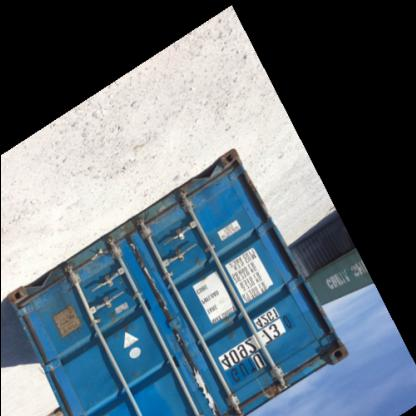Damage: (74, 235, 126, 284), (138, 256, 170, 302), (188, 366, 218, 414), (158, 330, 192, 346)
